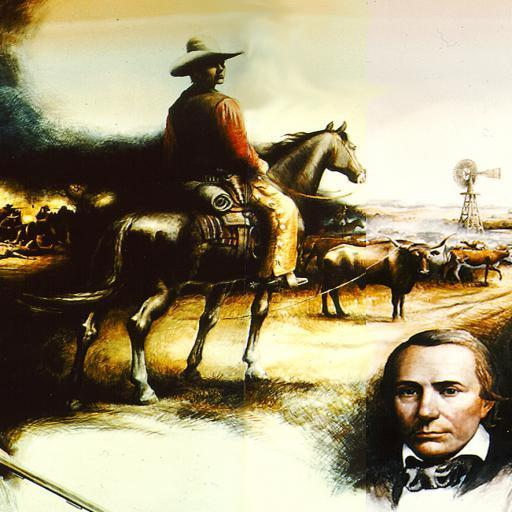horse: (15, 122, 366, 406)
